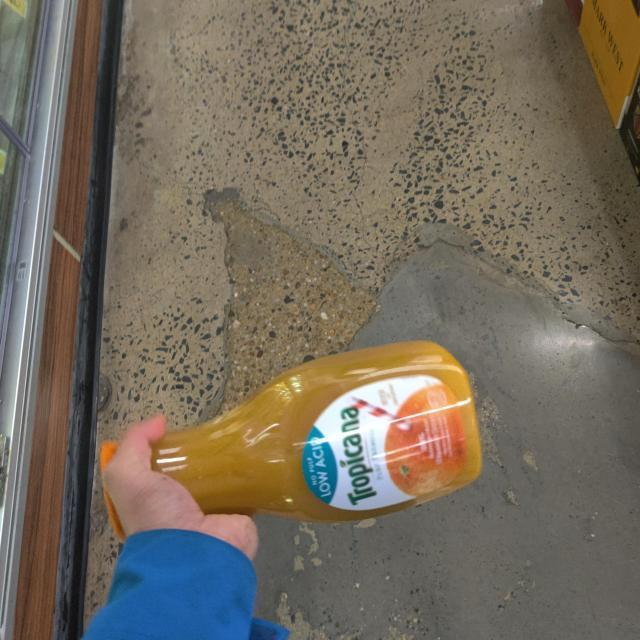Juice: (76, 348, 514, 522)
